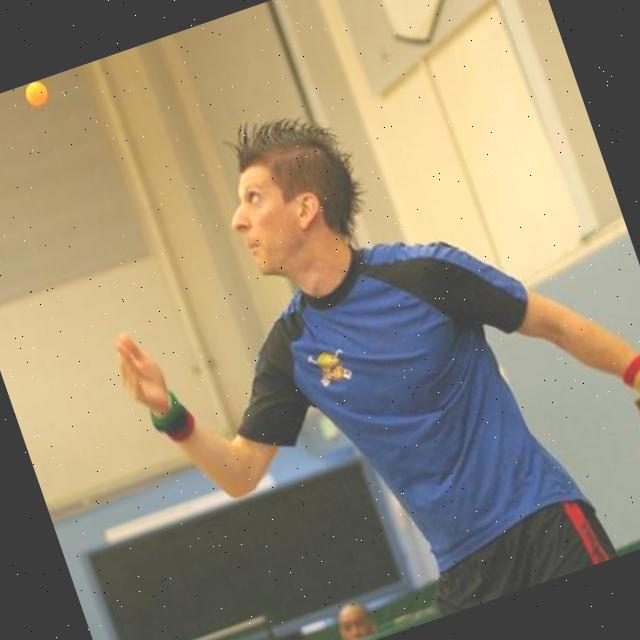ping-pong-ball: (18, 77, 52, 110)
